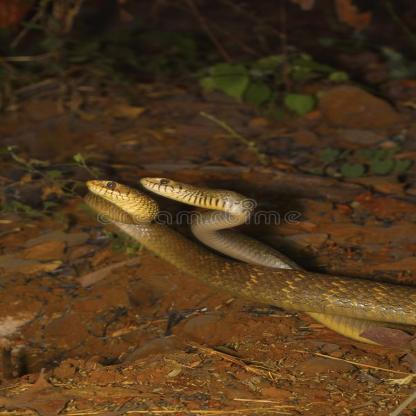snakes: (74, 176, 416, 346)
